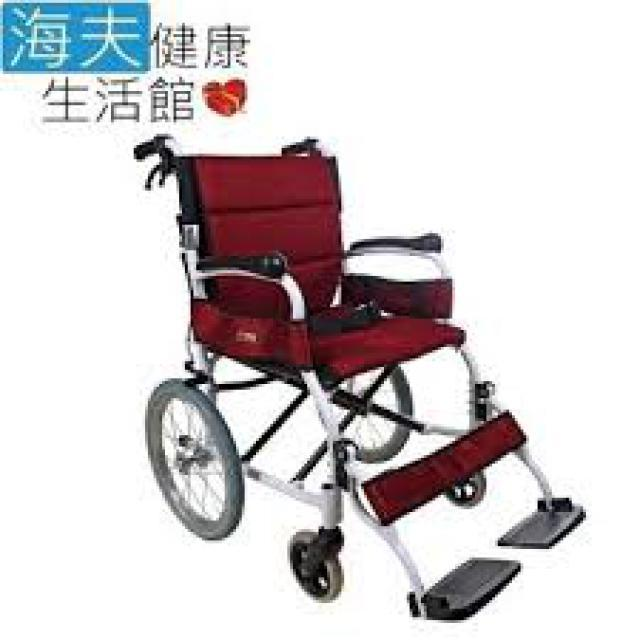wheelchair: (88, 128, 603, 637)
